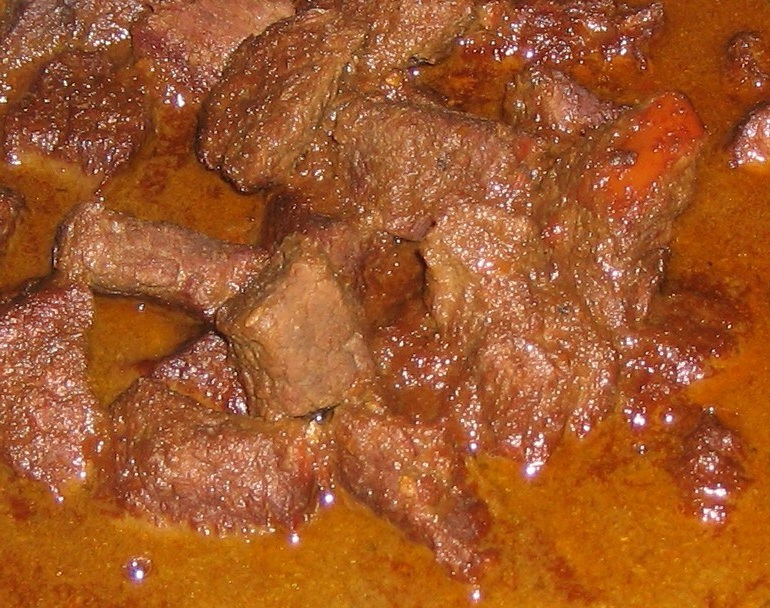Rendang: (64, 45, 739, 523)
